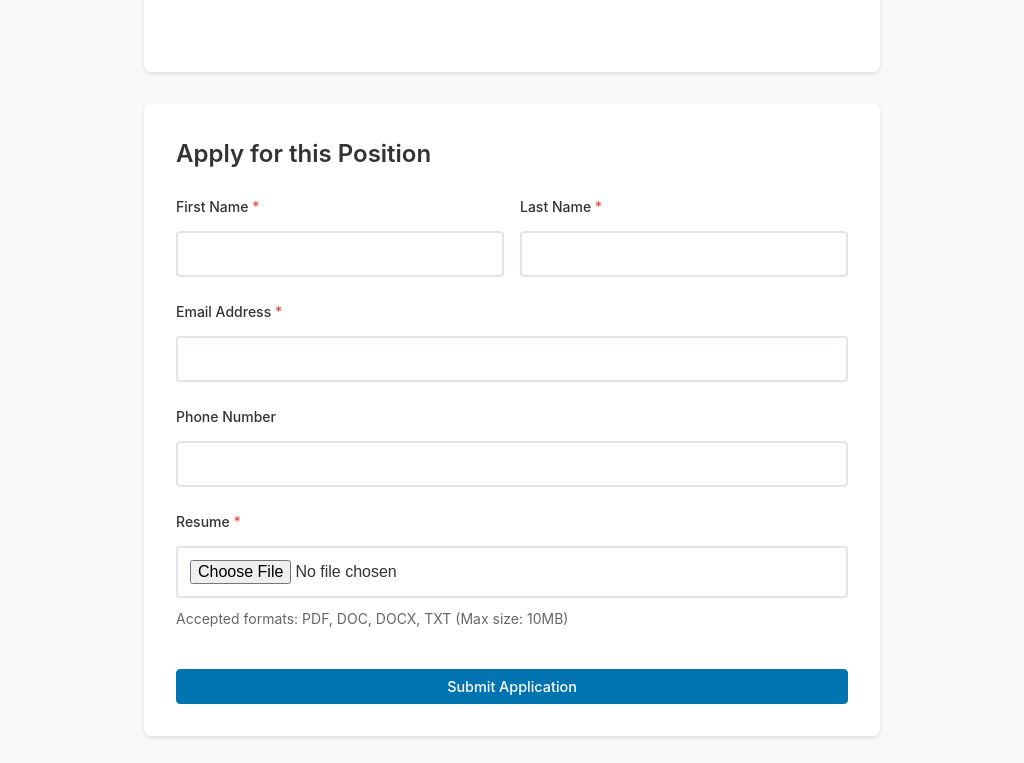
Scenario: ApplicantPortal › should validate required fields
(page scrolled)
Expected: the heading "Apply for this Position" is shown, [176,139,431,168]
Click the button "Submit Application" at point(512, 686), box [176,669,848,704]
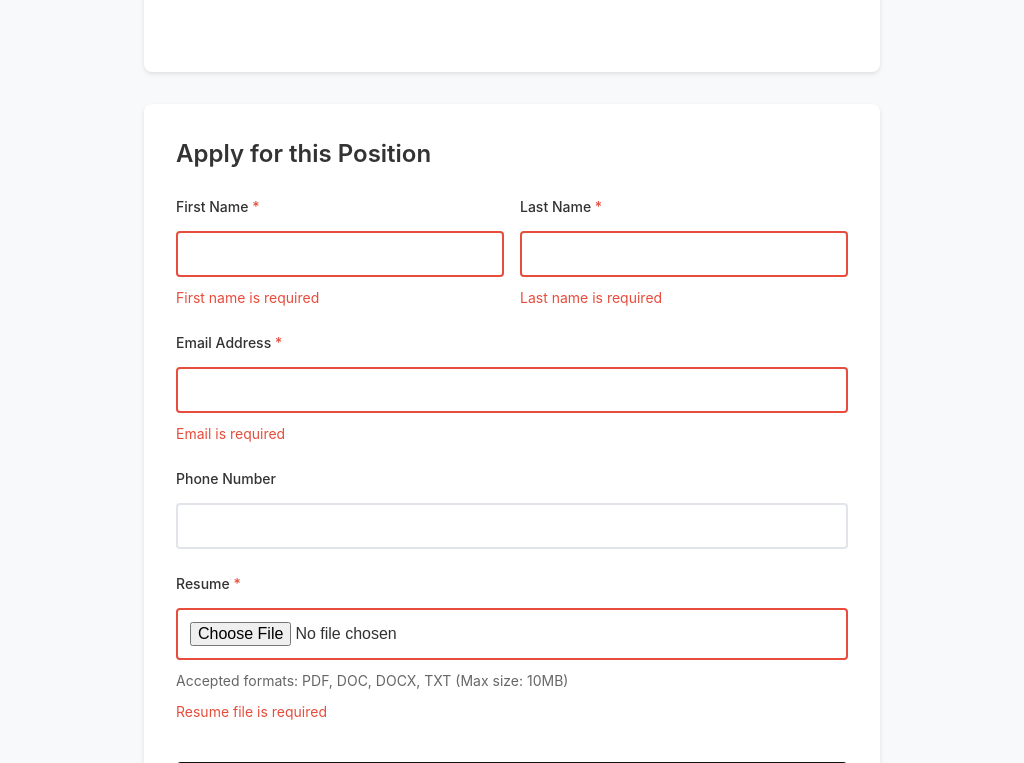
Expected: the text "First name is required" is shown, [176,289,319,306]
Expected: the text "Last name is required" is shown, [520,289,662,306]
Expected: the text "Email is required" is shown, [176,425,285,442]
